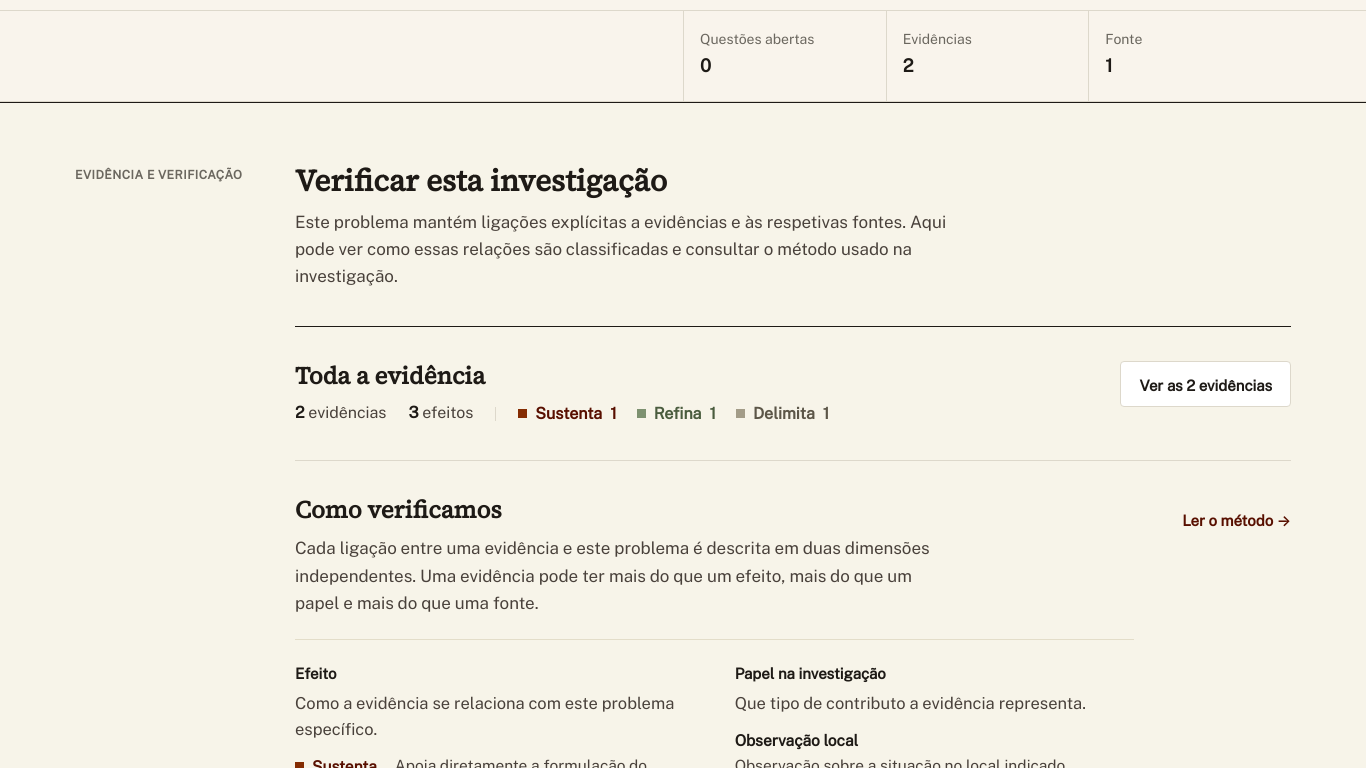
Test: PrbDetailsPresentation — audit evidence drawer › opens one modal drawer from Ver as N evidências, named by its visible title and carrying the truthful count
This screenshot has width=1366, height=768.
(page scrolled)
Click the button "Ver as 2 evidências": click(1206, 384) [1120,362,1291,408]
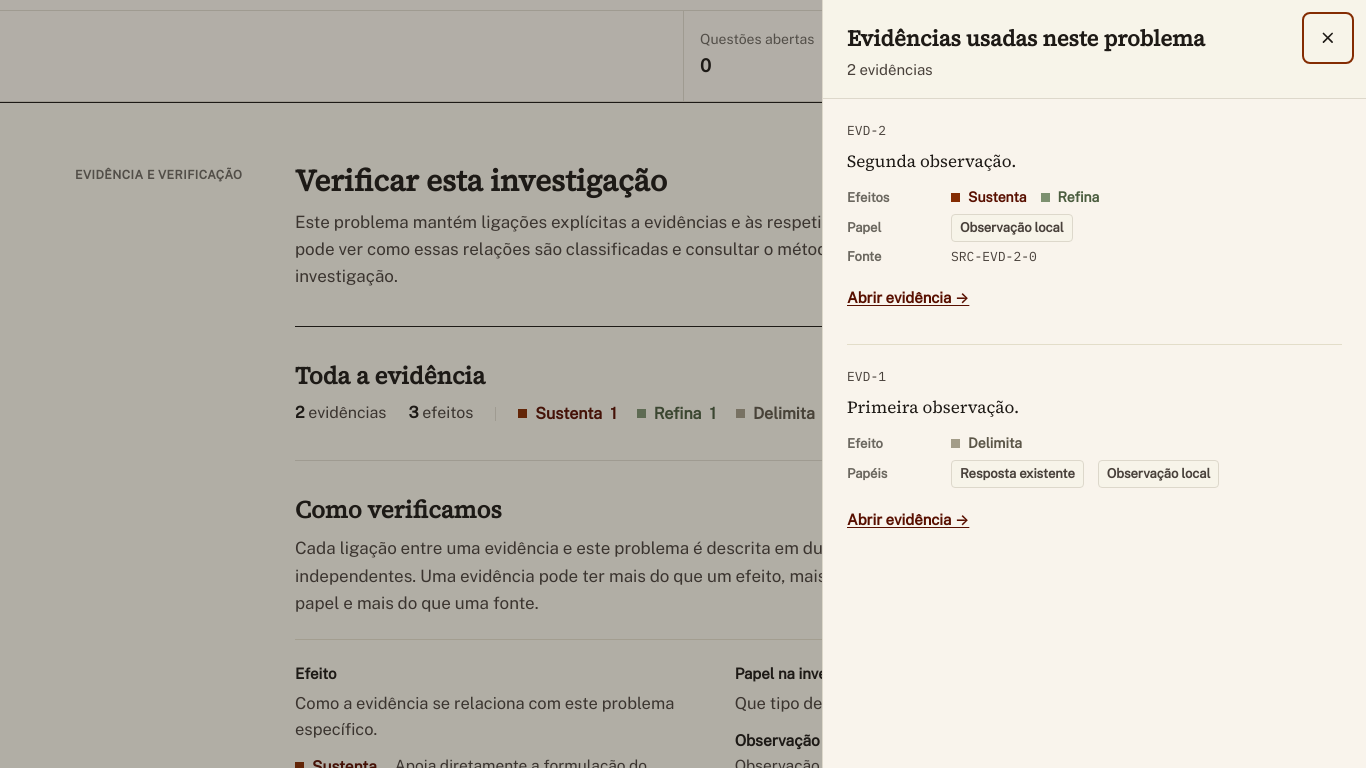
Check: the number of dialogs is 1, box [822,0,1365,767]
Check: the heading "Evidências usadas neste problema" is shown, box [847,24,1205,54]
Check: the text "2 evidências" is shown, box [847,61,933,78]
